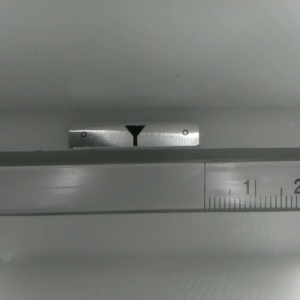1: (243, 180, 250, 195)
2: (293, 178, 300, 194)
finger: (124, 126, 144, 144)
